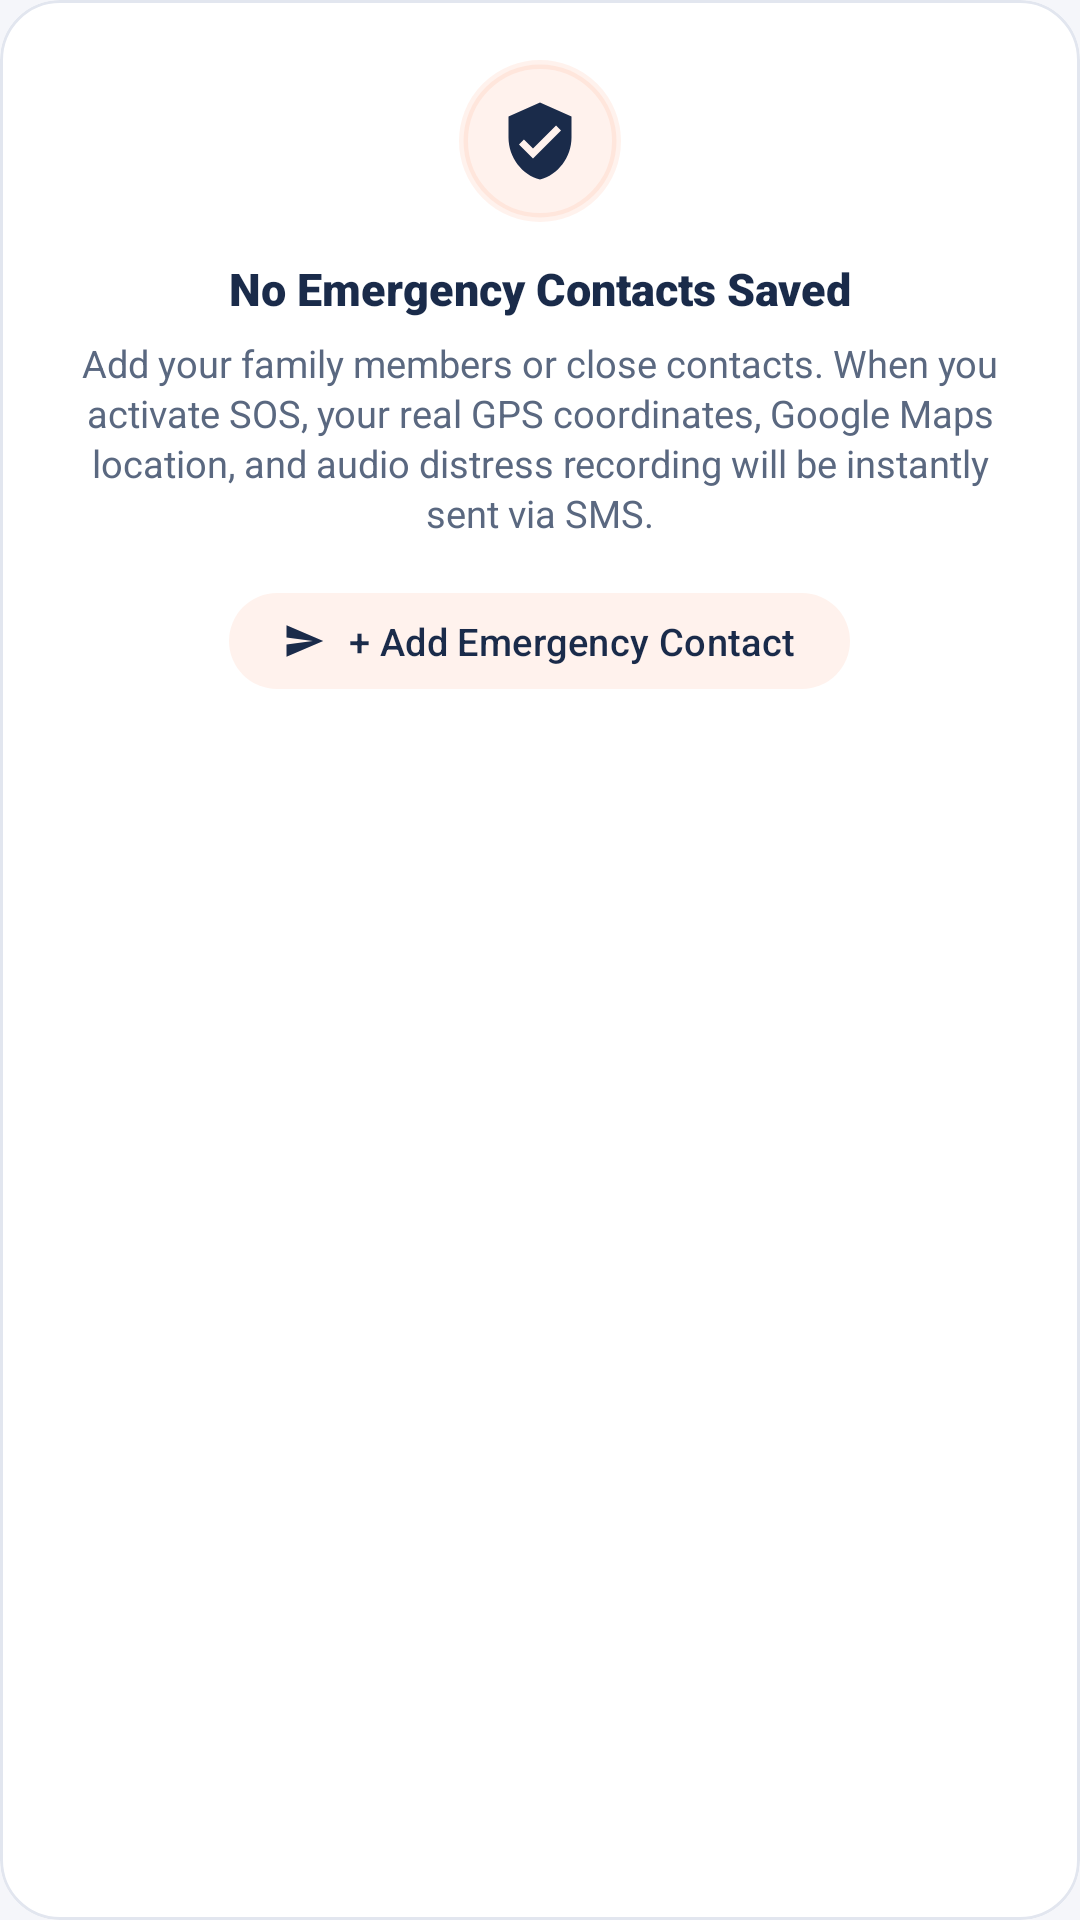

Point at icon controls on the screen. Image size 1080px×1920px, points as [x,y].
shield check: [540,141]
